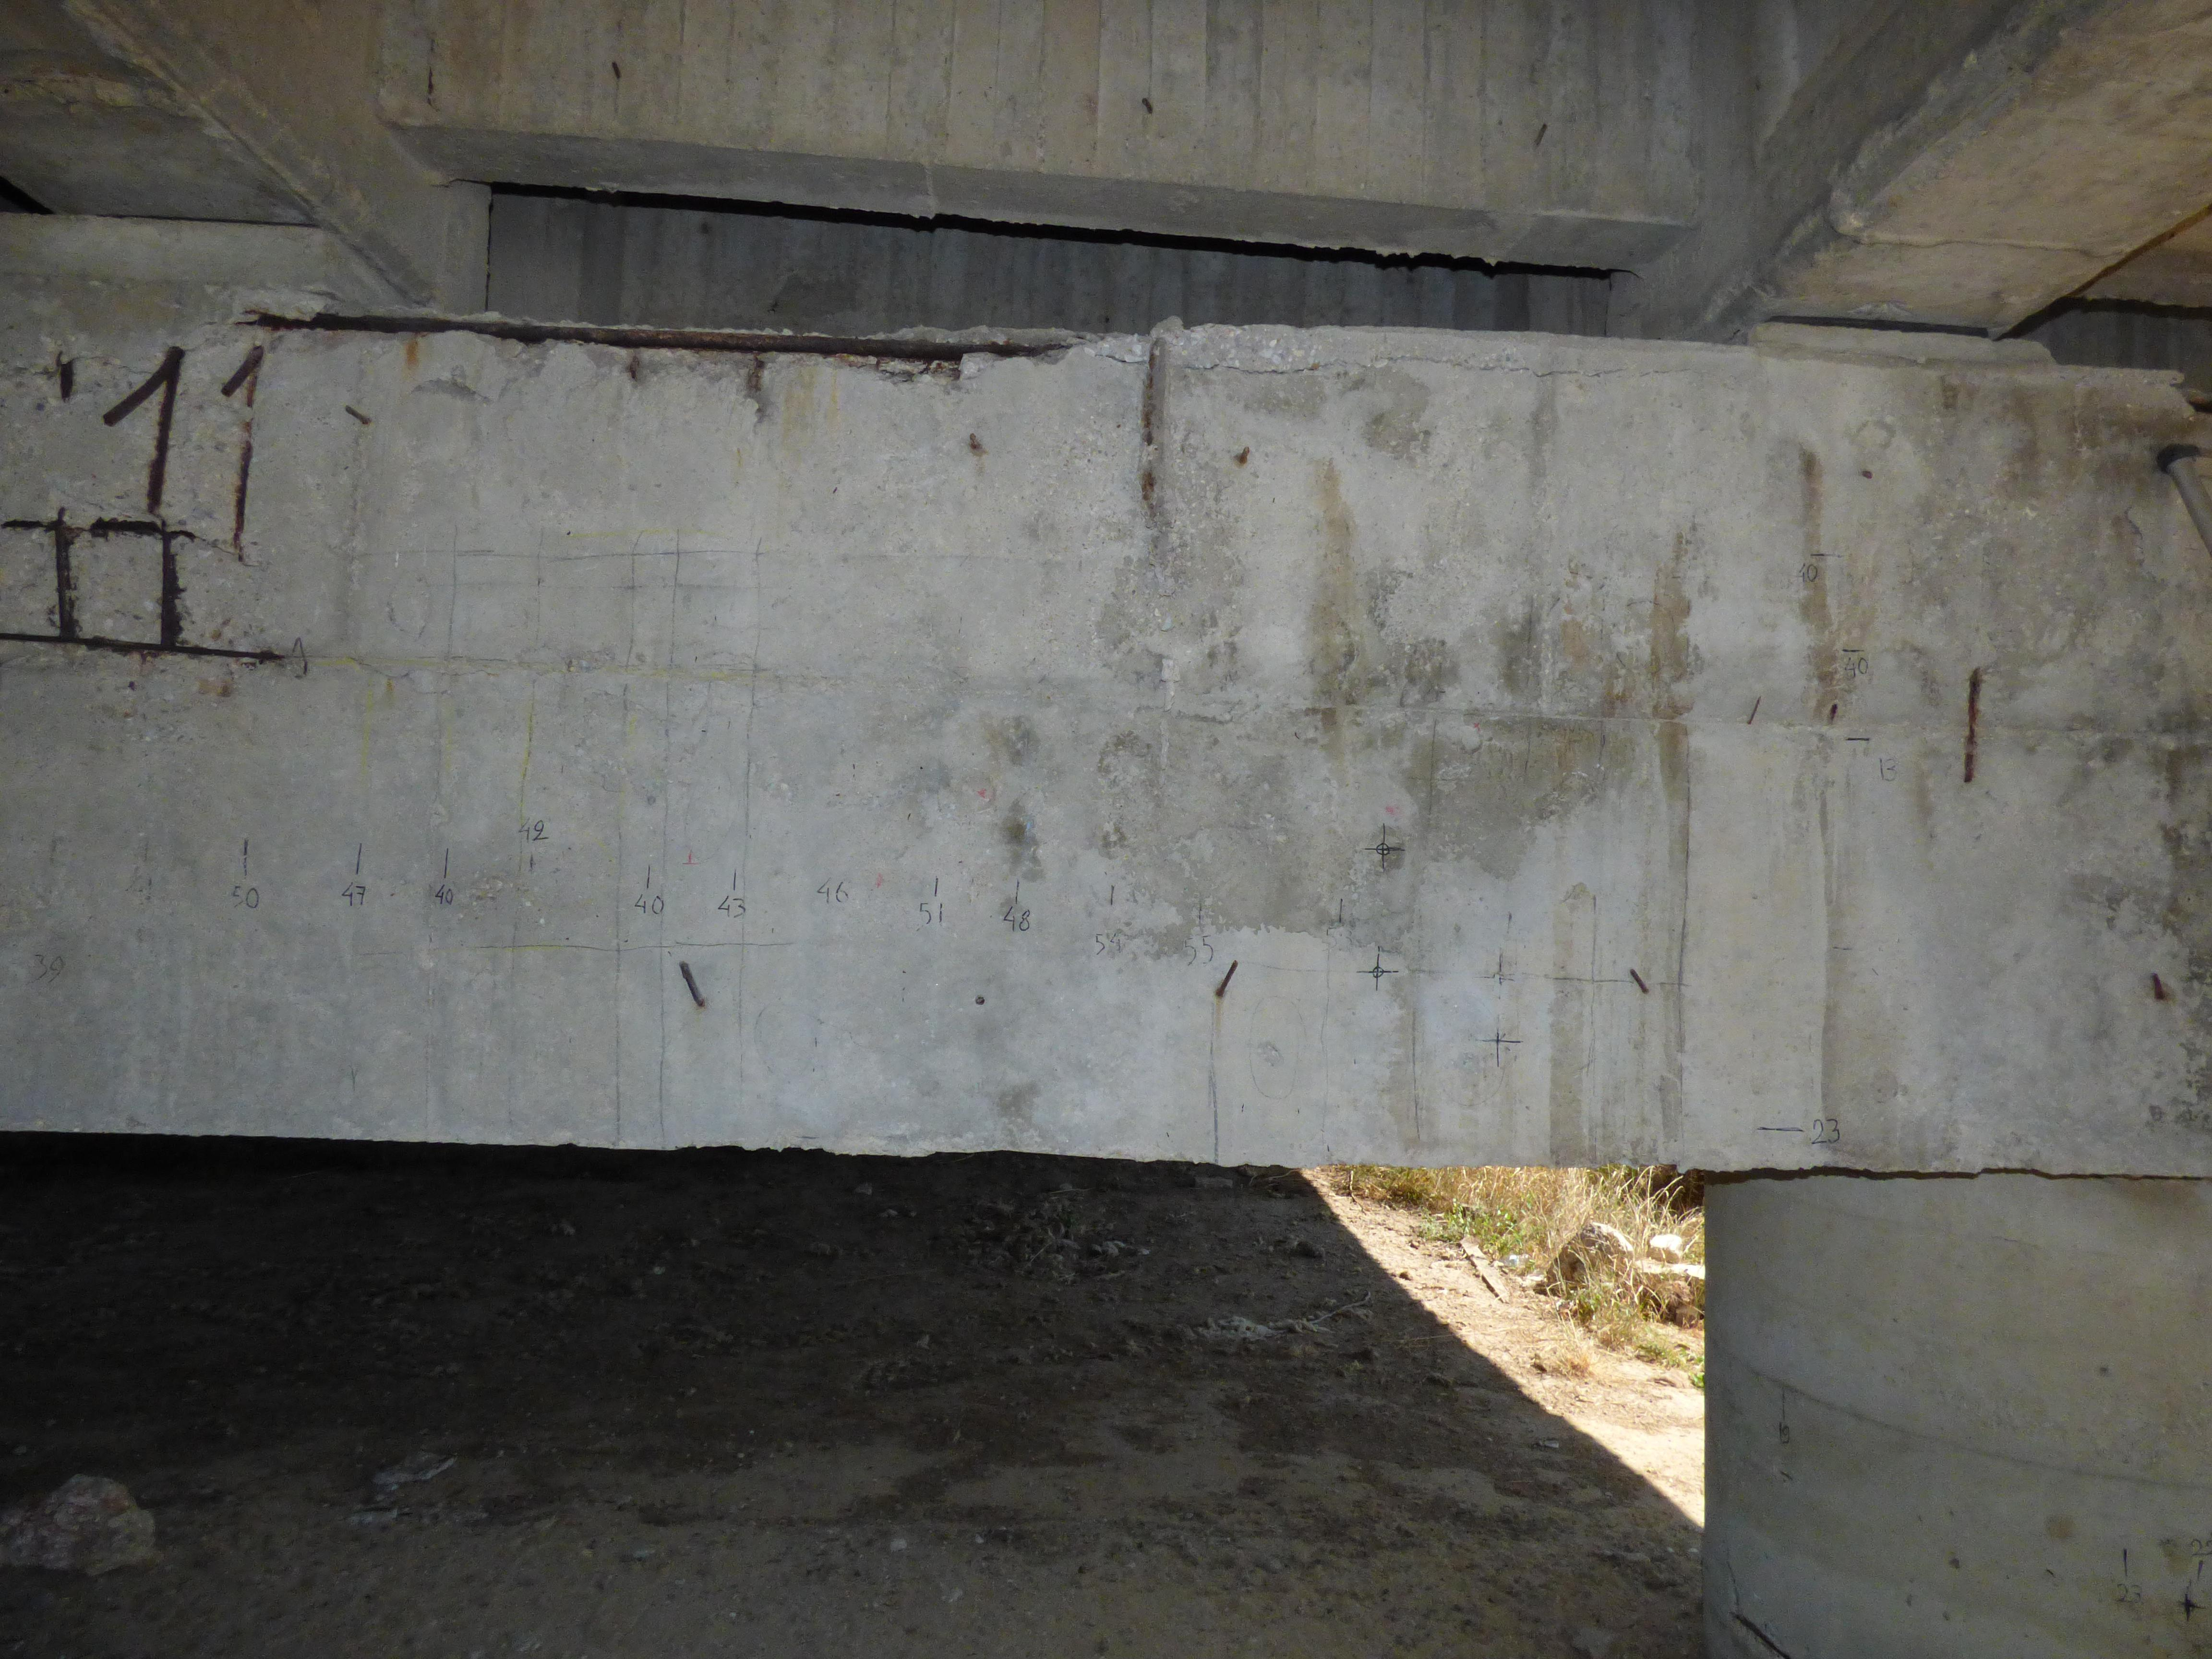crack: (1169, 355, 1693, 378), (1082, 349, 1143, 368)
rebar: (246, 310, 1061, 357), (2, 633, 284, 662), (103, 349, 179, 429), (146, 362, 179, 514), (235, 373, 258, 554), (2, 519, 195, 540), (54, 509, 75, 636), (160, 521, 181, 647), (1731, 1614, 1787, 1659), (221, 347, 261, 396), (1965, 667, 1980, 782), (1143, 350, 1157, 444), (679, 962, 705, 1007), (1216, 960, 1237, 997), (59, 361, 73, 399), (345, 406, 371, 425), (1630, 969, 1648, 995), (427, 40, 434, 105), (1745, 695, 1761, 723), (1141, 472, 1155, 502), (749, 361, 763, 390), (1534, 124, 1547, 146), (2155, 974, 2163, 999), (1143, 98, 1153, 115), (2184, 1595, 2191, 1621), (2181, 1601, 2202, 1610), (1238, 448, 1249, 464), (631, 355, 637, 376), (2189, 403, 2205, 411), (613, 63, 620, 80), (1843, 648, 1865, 653), (1831, 704, 1838, 720), (970, 434, 977, 448), (1846, 737, 1871, 741)
separation: (2125, 504, 2196, 589)
spall: (0, 471, 293, 756), (1019, 399, 1266, 685), (1872, 408, 2114, 659), (0, 322, 265, 551), (172, 282, 409, 355), (583, 345, 775, 425), (1743, 190, 1867, 308), (475, 336, 561, 397), (408, 364, 498, 410), (1723, 1605, 1794, 1659), (2168, 369, 2207, 415), (1851, 298, 1912, 322), (2175, 1577, 2205, 1624)
voids and pits: (1089, 317, 1531, 383)
